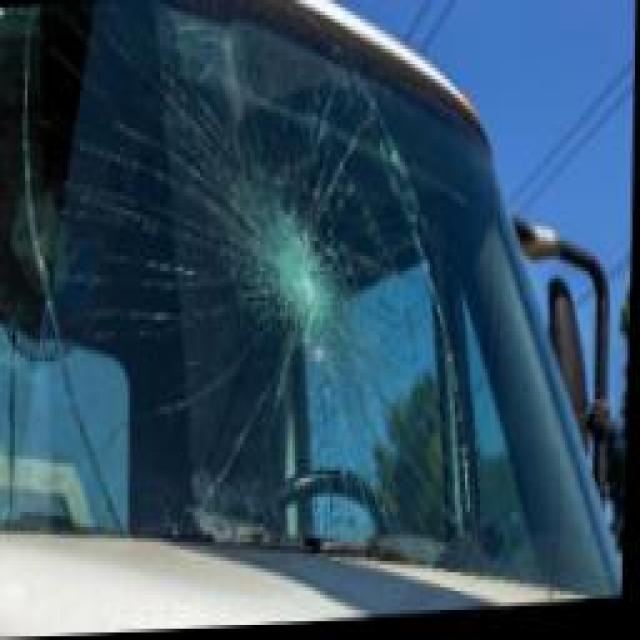Windshield: (0, 0, 568, 624)
